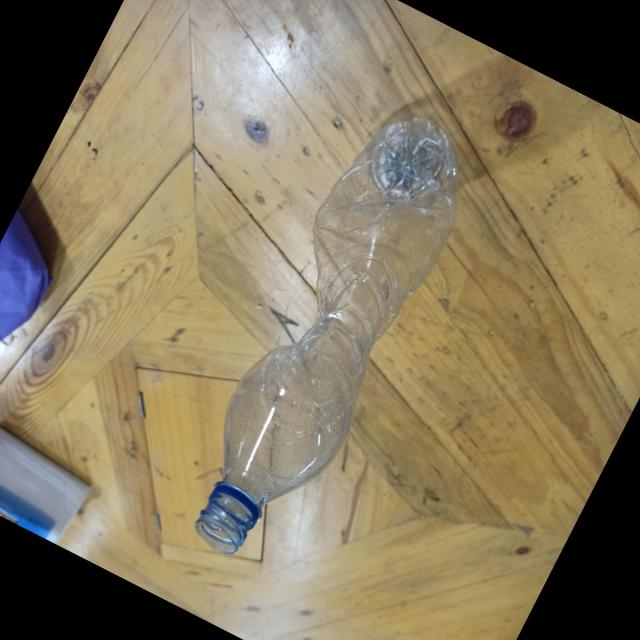BotolPlastik: (157, 92, 494, 582)
